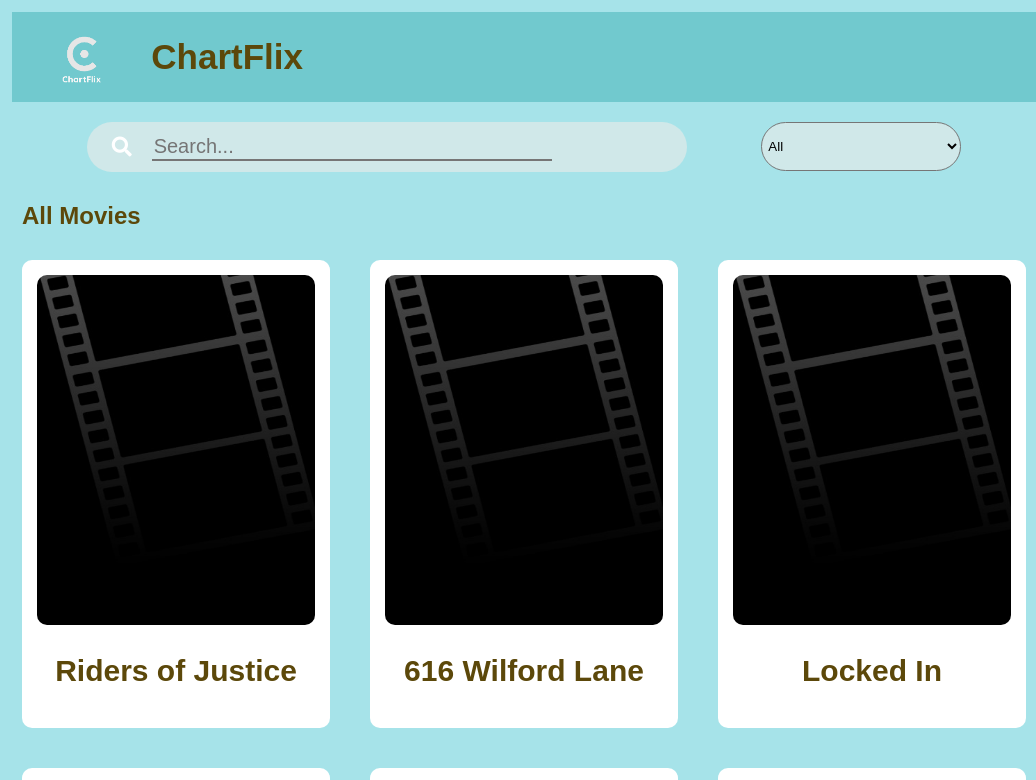
Filter › should update the title of the page while filtering
expect the heading "All Movies" is shown: met, box [22,202,141,229]
Step 1. Type "the" into the search field named "search" → [352, 148], box [152,134,552,161]
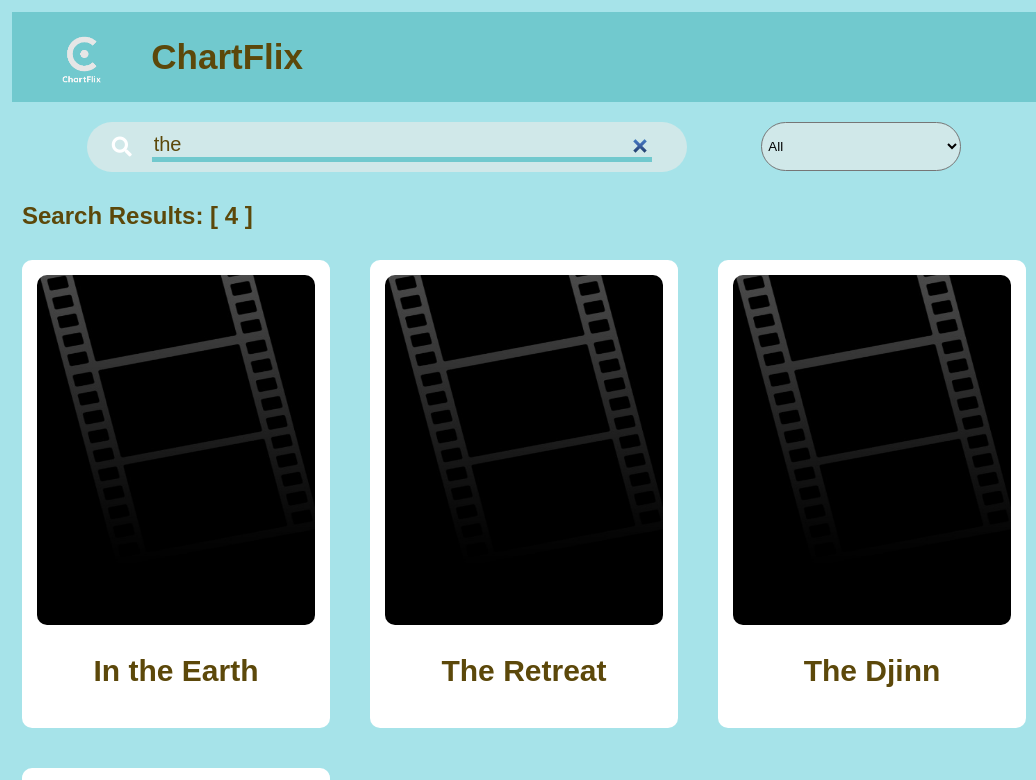
expect the heading "Search Results: [ 4 ]" is shown: met, box [22,202,253,229]
Step 2. Clear the search field named "search" → [402, 147], box [152,132,652,162]
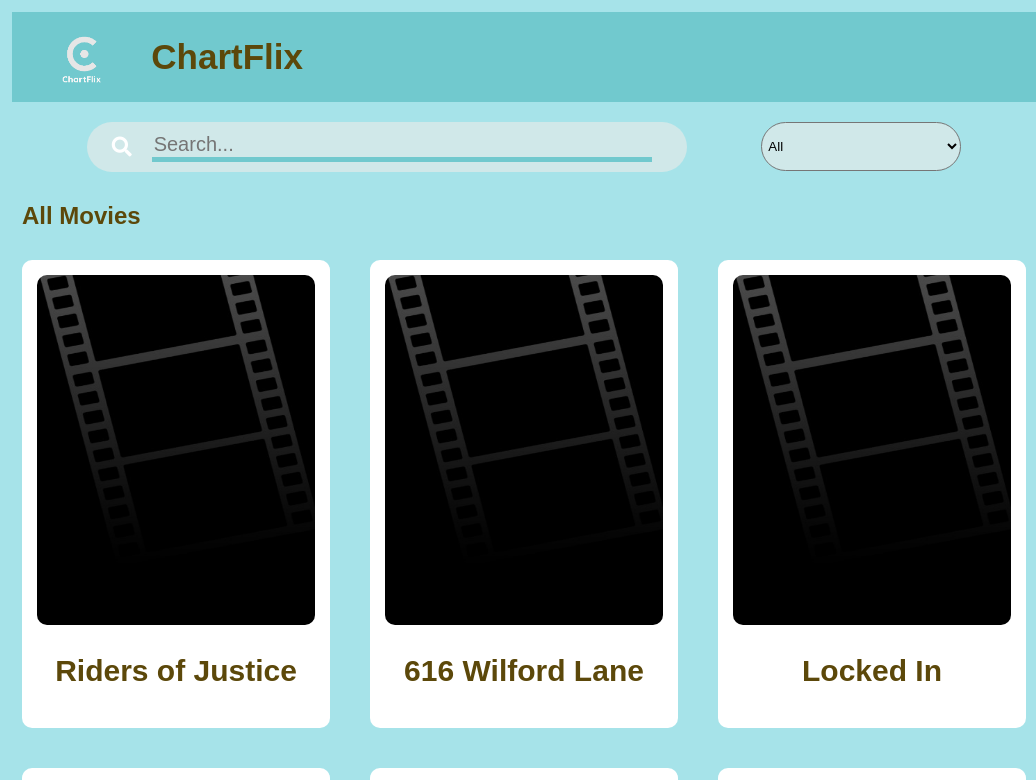
expect the heading "All Movies" is shown: met, box [22,202,141,229]
